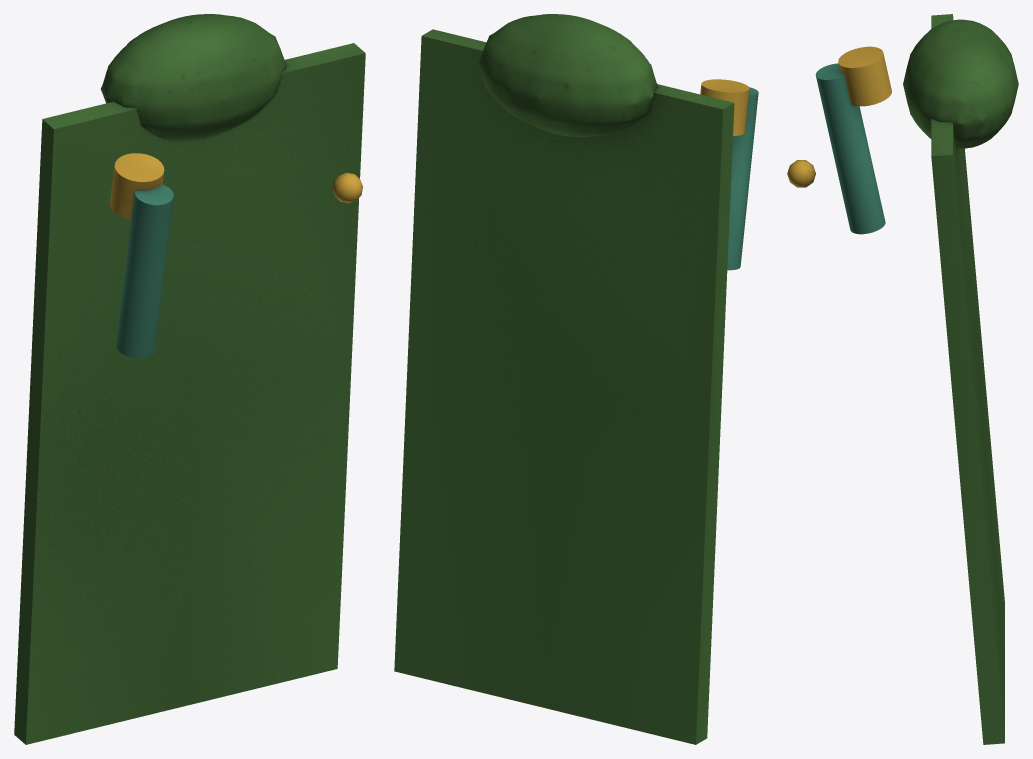
File: npc_batedor.glb
The picture shows the model from 3 angles, left to right: view 1: azimuth 30°, elevation 25°; view 2: azimuth 150°, elevation 25°; view 3: azimuth 270°, elevation 25°; orthographic projection. The views are drawn at different scales.
Parts seen in each view (by area): view 1: batedor_Spine2_peca, batedor_Hips_peca; view 2: batedor_Spine2_peca, batedor_Hips_peca; view 3: batedor_Spine2_peca, batedor_Hips_peca.
Part boxes in pixels (x1,y1,x2,y2): batedor_Spine2_peca: (14, 14, 365, 744); batedor_Hips_peca: (110, 153, 173, 358); batedor_Spine2_peca: (394, 14, 734, 744); batedor_Hips_peca: (700, 79, 758, 270); batedor_Spine2_peca: (787, 14, 1018, 744); batedor_Hips_peca: (815, 46, 891, 234).
Size of the model in its own units: 0.46 by 0.9798 by 0.32.
2 materials, 2 textured.
